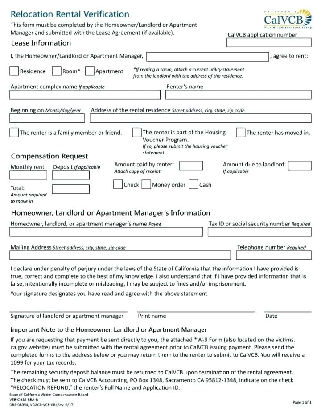checkbox: (8, 65, 20, 77), (51, 65, 63, 77), (84, 65, 96, 77), (8, 126, 20, 138), (131, 126, 143, 138), (235, 126, 247, 138), (112, 177, 124, 189), (140, 177, 152, 189)
textbox: (88, 111, 313, 124), (7, 248, 232, 261), (8, 225, 204, 239), (8, 88, 162, 101), (163, 88, 313, 101), (145, 50, 269, 63), (206, 225, 313, 238), (225, 35, 313, 49), (234, 248, 313, 262), (8, 110, 86, 124), (8, 168, 48, 181), (51, 168, 91, 181), (51, 182, 91, 195), (178, 159, 203, 172), (287, 159, 312, 172)
textline: (7, 301, 129, 315), (134, 300, 256, 314), (262, 300, 313, 314), (187, 174, 199, 181), (187, 183, 199, 190)
